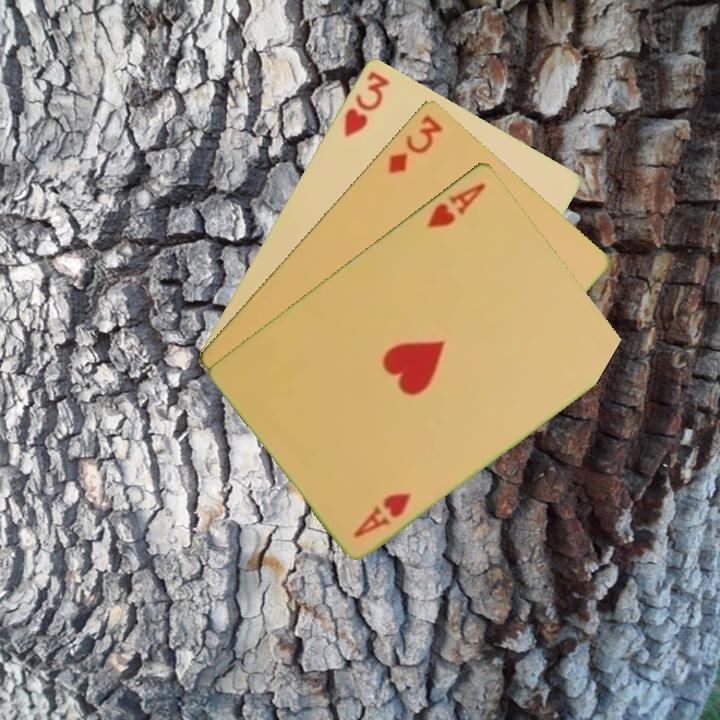3d: (384, 110, 446, 177)
3h: (340, 67, 393, 140)
Ah: (423, 178, 489, 231), (349, 488, 415, 540)
